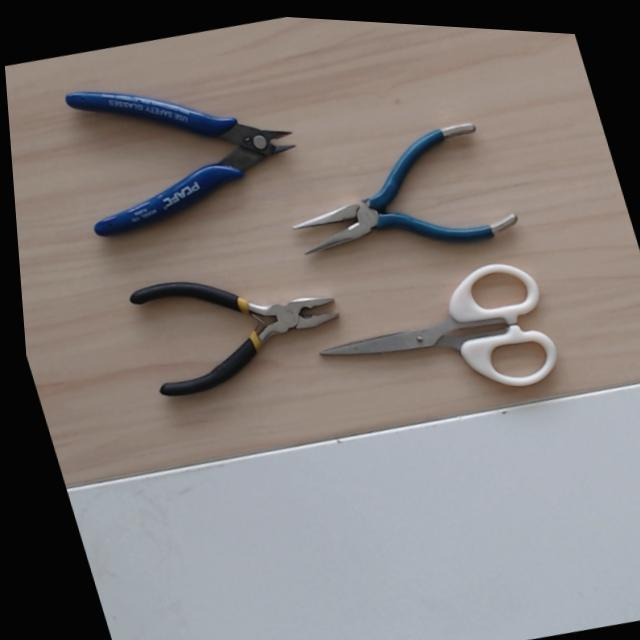Gunting: (316, 238, 569, 393)
Tang-Jepit-Biru: (279, 113, 521, 314)
Tang-Jepit-Hitam: (127, 234, 349, 403)
Tang-Potong-Biru: (62, 63, 304, 238)
